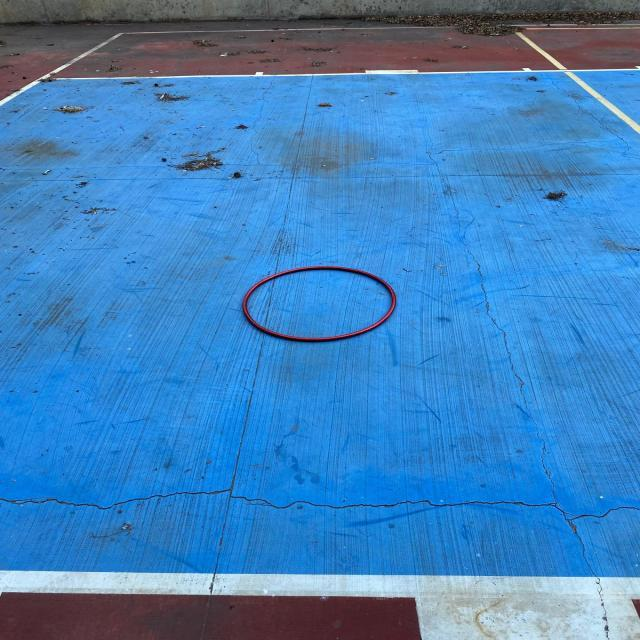Circle: (241, 264, 397, 343)
